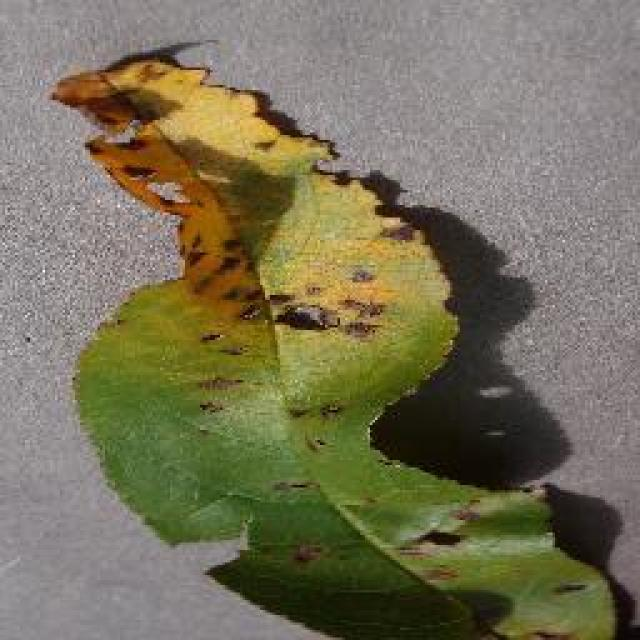Peach_Bacterial_Spot: (62, 15, 415, 422)
